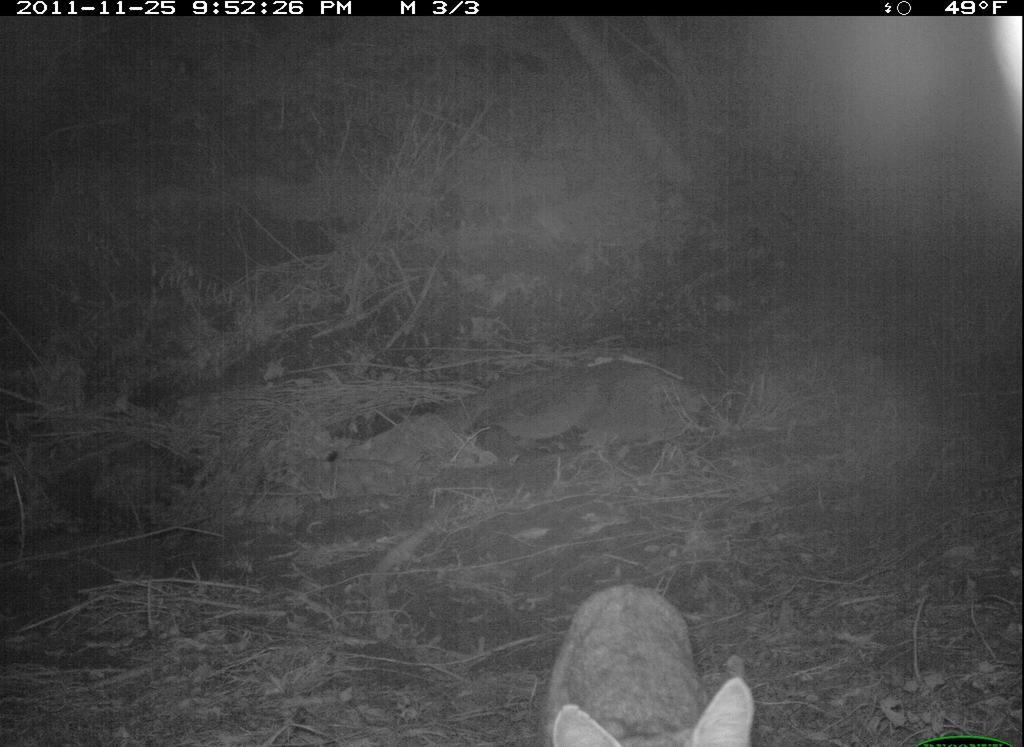bobcat: (530, 573, 770, 747)
